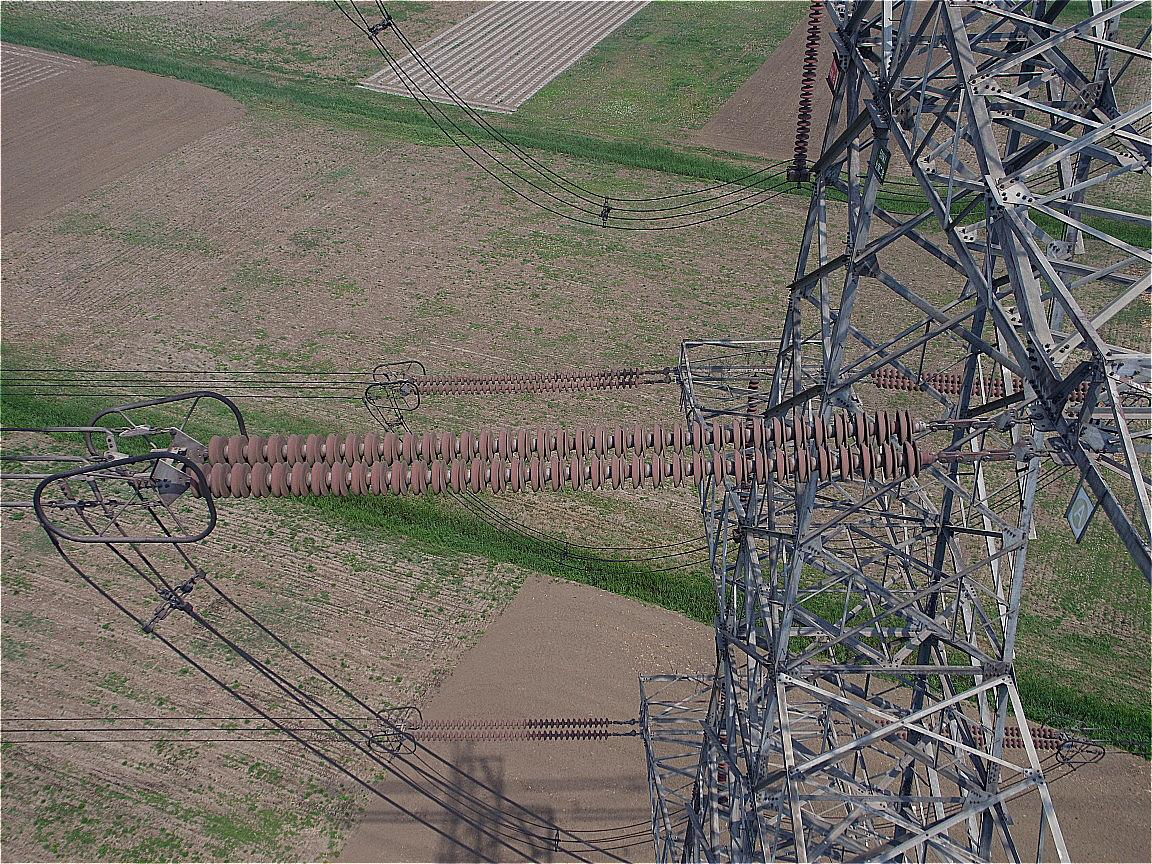insultor2: (185, 414, 952, 500)
